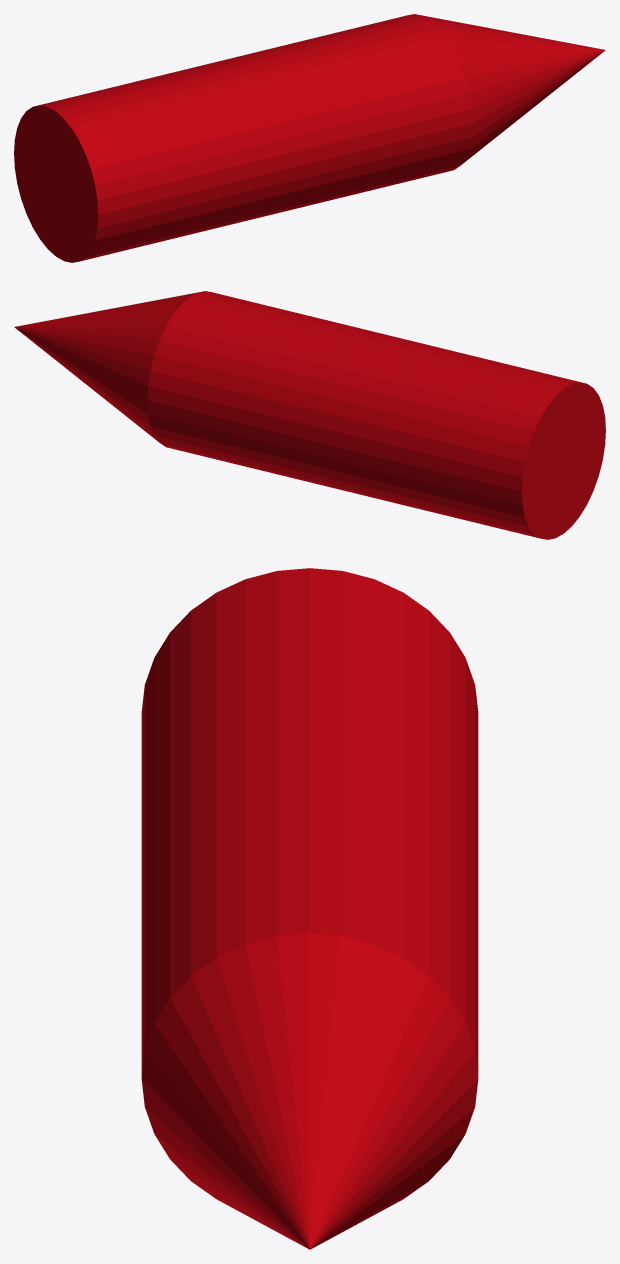
The model's file is BulletDeutschePrototyp.fbx.
3 views of the same model, one above another, from view 1: azimuth 30°, elevation 25°; view 2: azimuth 150°, elevation 25°; view 3: azimuth 270°, elevation 25° (orthographic). The views are drawn at different scales.
Visible parts, largest first — view 1: Cone; view 2: Cone; view 3: Cone.
Boxes of the visible parts, <box> form: Cone: <box>14,14,605,262</box>; Cone: <box>14,291,605,539</box>; Cone: <box>141,568,478,1249</box>.
Size of the model in its own units: 304 by 76.57 by 80.6.
